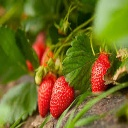strawberry: (88, 49, 114, 98), (48, 73, 75, 115)
